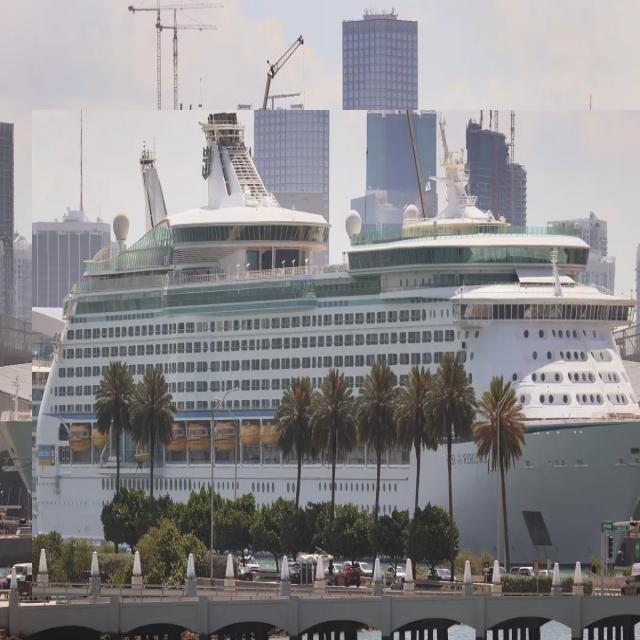PassengerShip: (32, 110, 640, 596)
